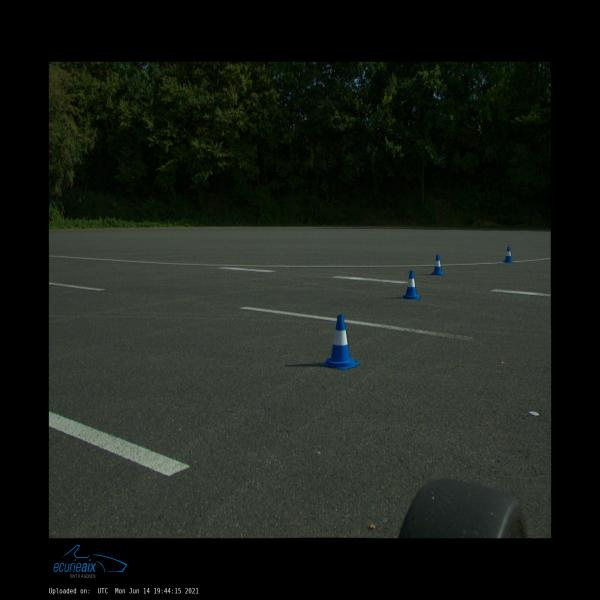blue_cone: (321, 315, 360, 369), (403, 270, 420, 300), (430, 255, 444, 275), (503, 247, 513, 262)
